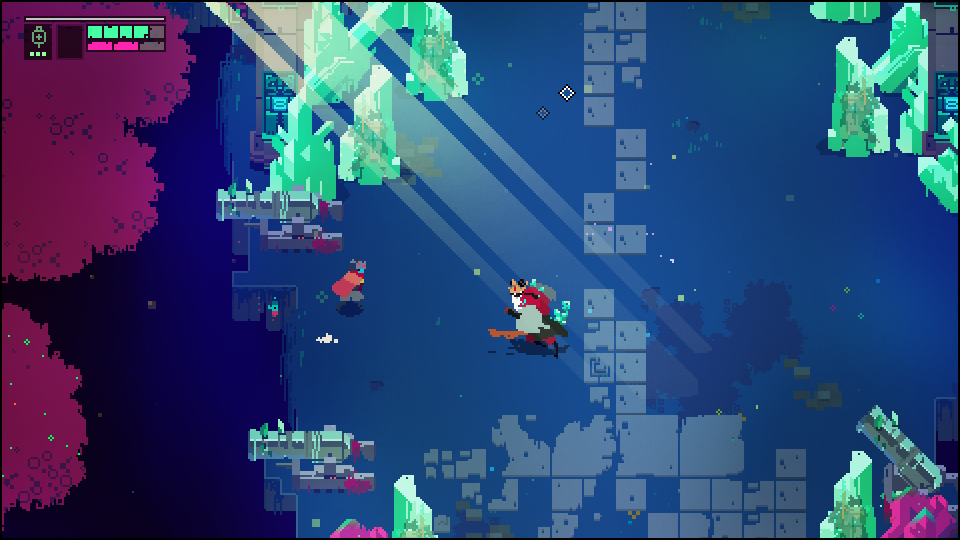hanged_man: (485, 279, 570, 359)
player: (330, 260, 369, 313)
